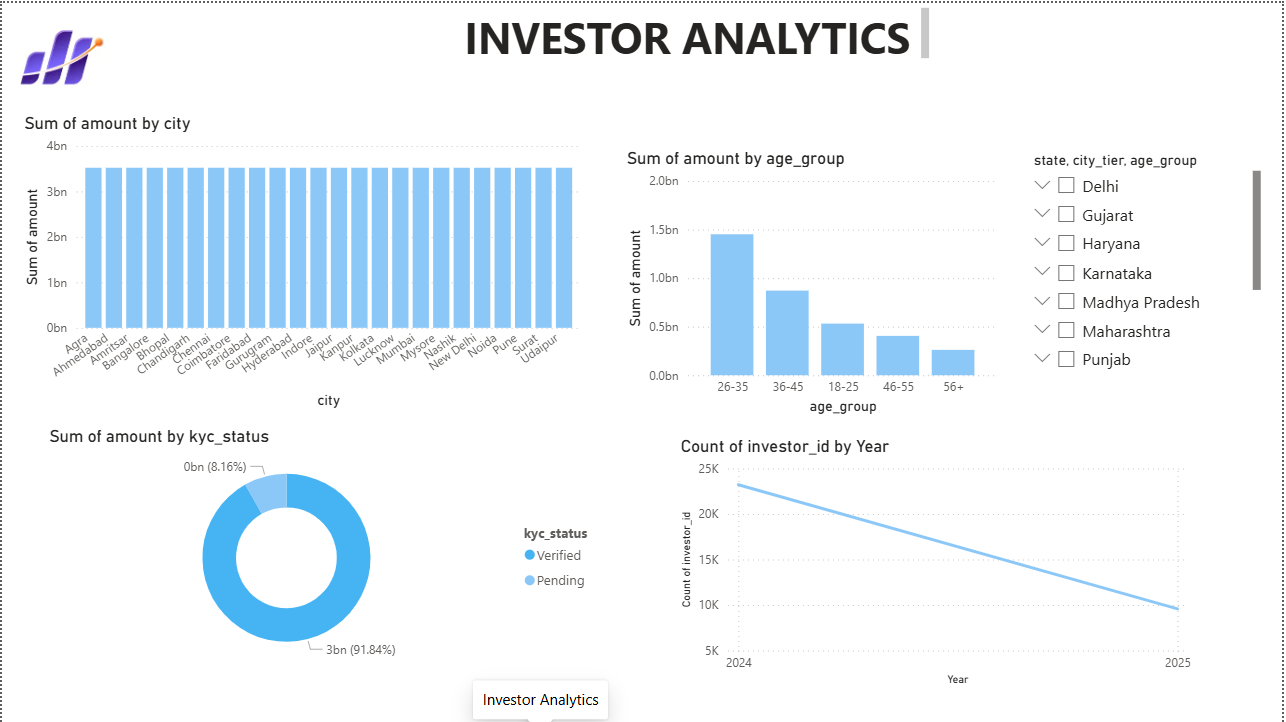

The page's visual inventory and layout, read from the dashboard file:
{"tool":"powerbi","page":{"name":"Investor Analytics","canvas":[1280,720],"ordinal":2},"visuals":[{"type":"textbox","box":[457.3,0,474.5,63.6],"z":0},{"type":"image","box":[0,0,119.4,109.8],"z":1000},{"type":"clusteredColumnChart","fields":{"Category":["Geography.city"],"Y":["Sum(Transactions_Fact.amount)"]},"box":[17.1,110.1,566.2,300.8],"z":2000},{"type":"donutChart","fields":{"Category":["Transactions_Fact.kyc_status"],"Y":["Sum(Transactions_Fact.amount)"]},"box":[42.8,423.1,566.2,245.8],"z":3000},{"type":"clusteredColumnChart","fields":{"Category":["Transactions_Fact.age_group"],"Y":["Sum(Transactions_Fact.amount)"]},"box":[620,145,381.2,271.2],"z":4000},{"type":"slicer","fields":{"Values":["Geography.state","Geography.city_tier","Geography.age_group"]},"box":[1018.8,143.8,245,232.5],"z":5000},{"type":"lineChart","fields":{"Category":["Transactions_Fact.transaction_date.Variation.Date Hierarchy.Year","Transactions_Fact.transaction_date.Variation.Date Hierarchy.Quarter","Transactions_Fact.transaction_date.Variation.Date Hierarchy.Month","Transactions_Fact.transaction_date.Variation.Date Hierarchy.Day"],"Y":["CountNonNull(Transactions_Fact.investor_id)"]},"box":[673.8,432.5,520,255],"z":6000}]}

Visuals, with their boxes in screenshot pixels (x1, y1, x2, y2), scaled from the page's 1280x720 canvas onto the 1286x722 screenshot:
textbox: region(459, 0, 936, 64)
image: region(0, 0, 120, 110)
clusteredColumnChart - Geography.city x Sum(Transactions_Fact.amount): region(17, 110, 586, 412)
donutChart - Transactions_Fact.kyc_status x Sum(Transactions_Fact.amount): region(43, 424, 612, 671)
clusteredColumnChart - Transactions_Fact.age_group x Sum(Transactions_Fact.amount): region(623, 145, 1006, 417)
slicer - Geography.state x Geography.city_tier: region(1024, 144, 1270, 377)
lineChart - Transactions_Fact.transaction_date.Variation.Date Hierarchy.Year x Transactions_Fact.transaction_date.Variation.Date Hierarchy.Quarter: region(677, 434, 1199, 689)
